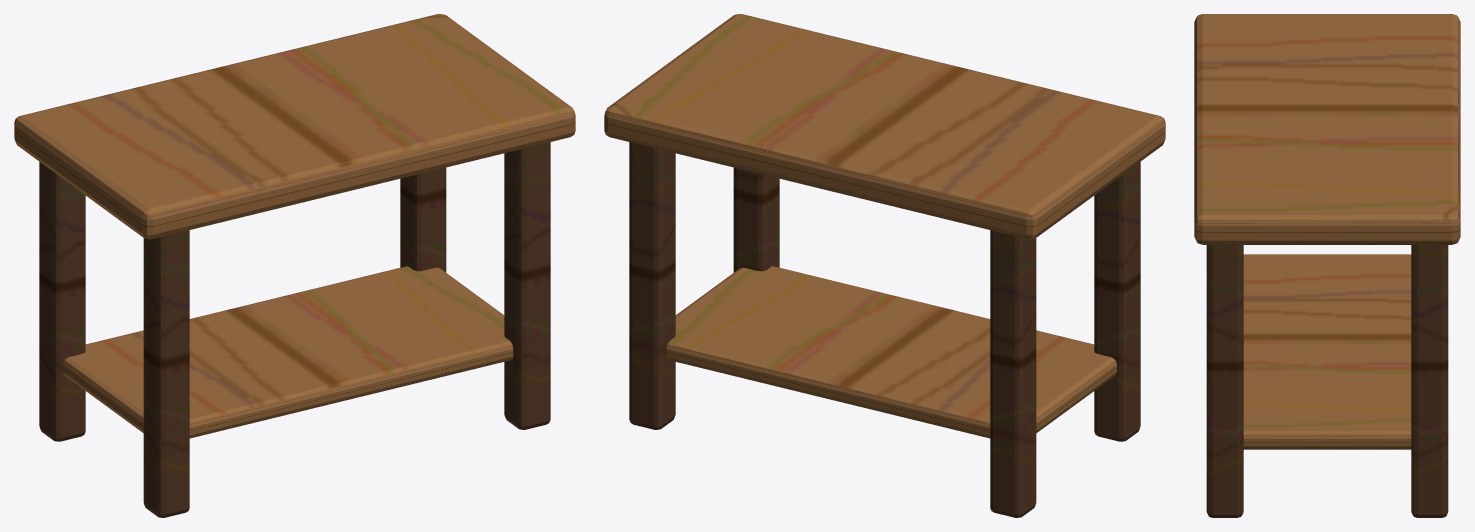
Rendered from SM_HH_V3_HerbTable.fbx.
The picture shows the model from 3 angles, left to right: view 1: azimuth 30°, elevation 25°; view 2: azimuth 150°, elevation 25°; view 3: azimuth 270°, elevation 25°; orthographic projection.
Visible parts, largest first — view 1: HH_V3_HerbTable; view 2: HH_V3_HerbTable; view 3: HH_V3_HerbTable.
Part boxes in pixels (<box>): HH_V3_HerbTable: <box>14,14,575,517</box>; HH_V3_HerbTable: <box>604,14,1165,517</box>; HH_V3_HerbTable: <box>1194,14,1460,517</box>.
Bounding box in the file's own units: 0.65 × 1.2 × 0.84.
